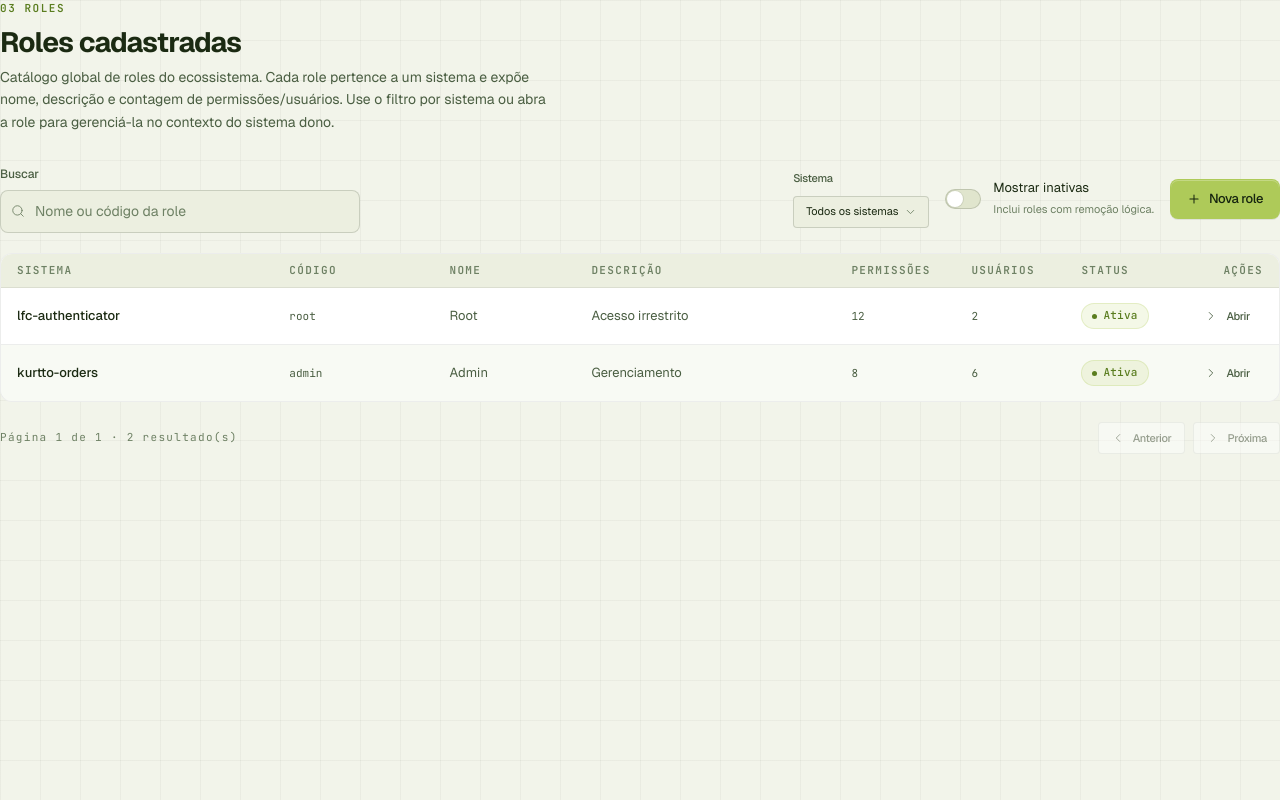
Test: RolesGlobalListShellPage — Issue #193 criar role global › POST /roles usa systemId do sistema selecionado no modal
The image size is (1280, 800).
Step 1. Click the button with test id "roles-global-create-open" → click(1225, 199), box [1170,179,1279,219]
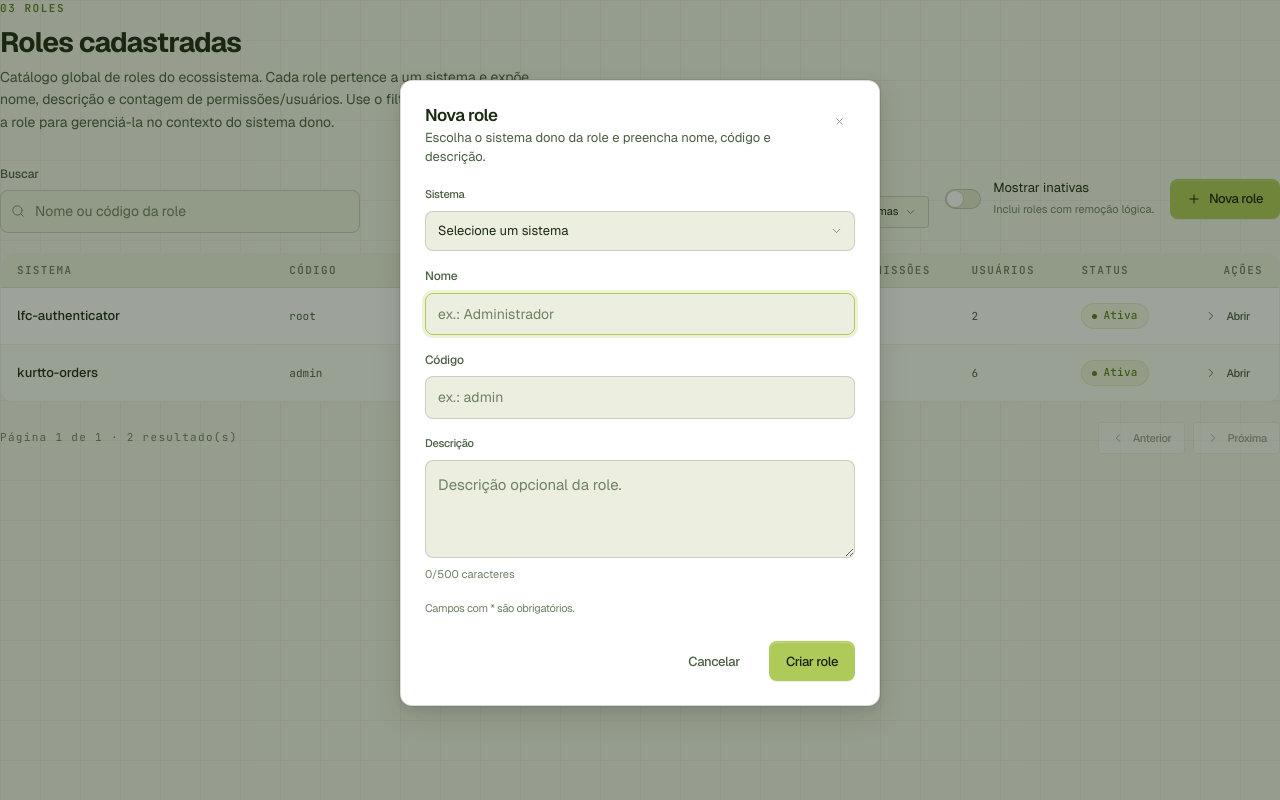
expect the form with test id "new-role-form" is shown: met, box [425,267,855,681]
Step 2. Select "kurtto-orders" in the dropdown with test id "new-role-system" → (640, 231), box [425,211,855,251]
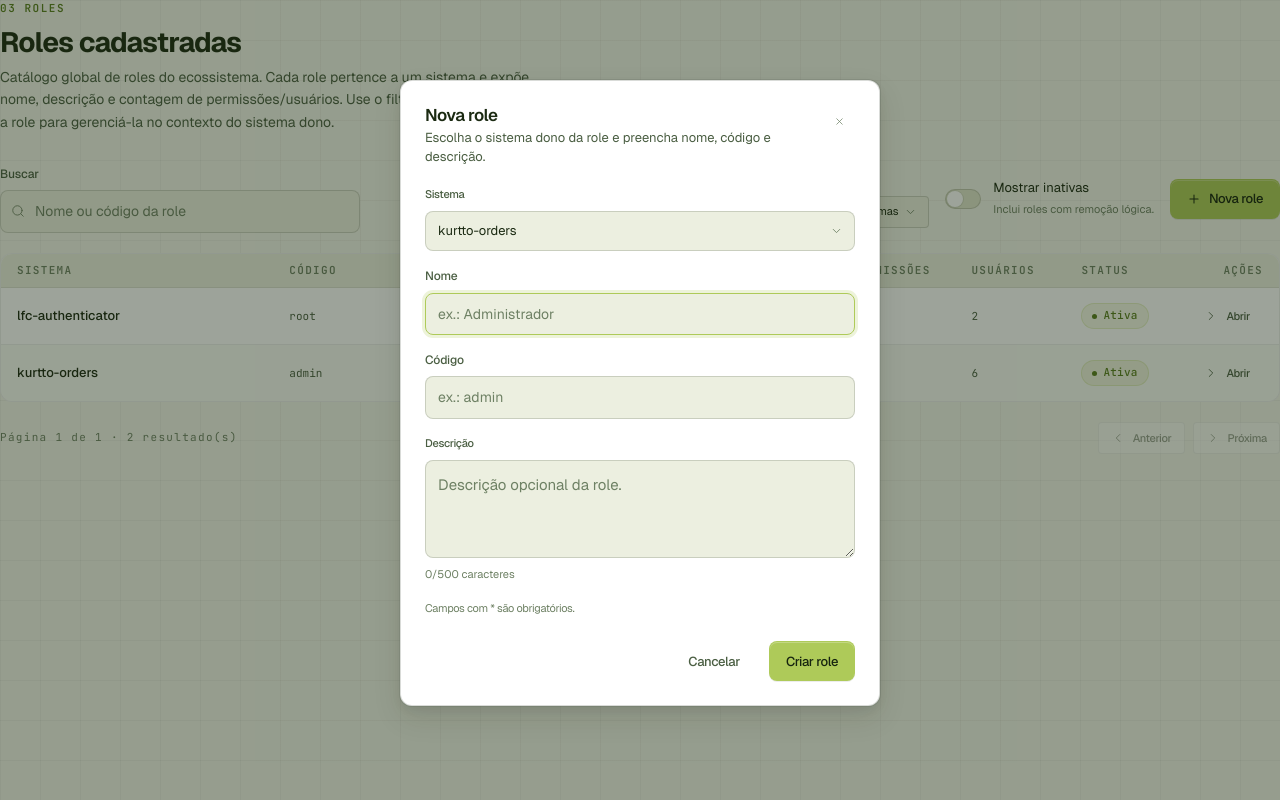
Step 3. Type "Operador Kurtto" into the field with test id "new-role-name" → (640, 314), box [425,292,855,335]
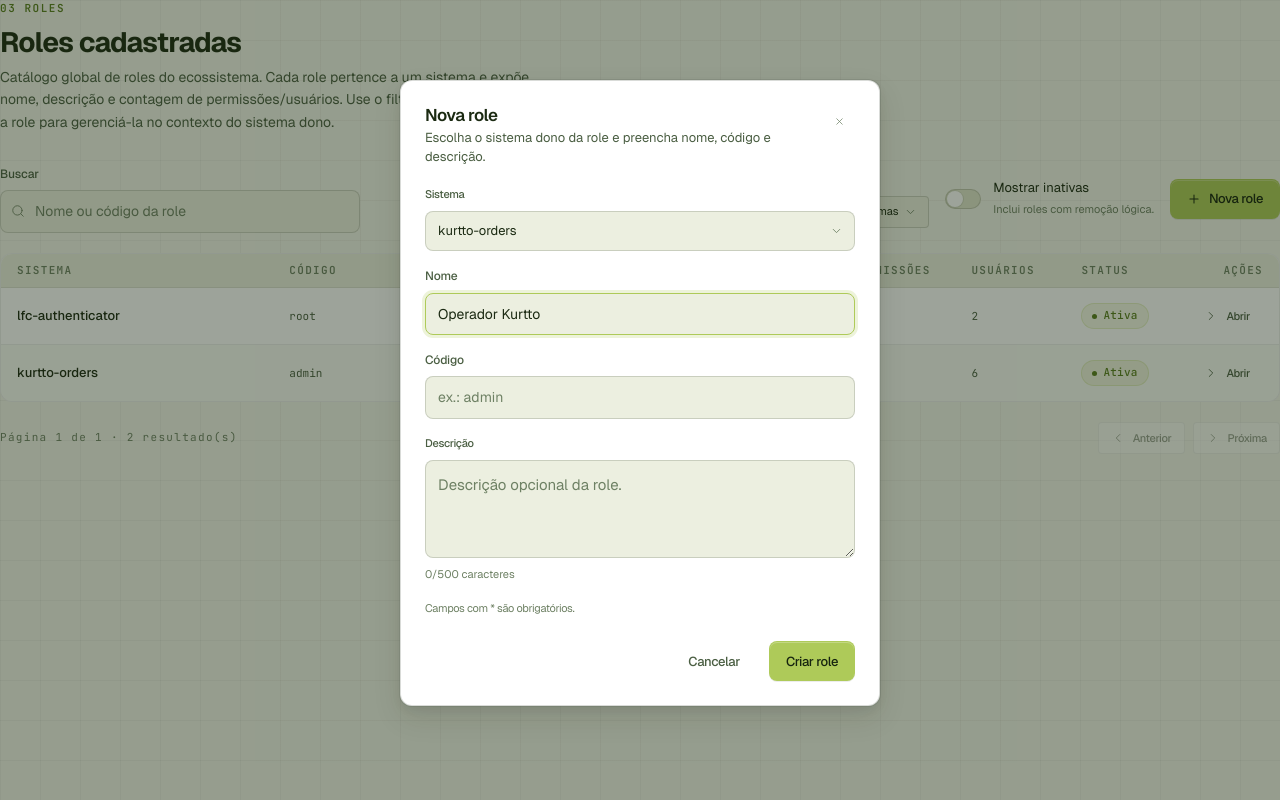
Step 4. Type "kurtto_op" into the field with test id "new-role-code" → (640, 397), box [425,376,855,418]
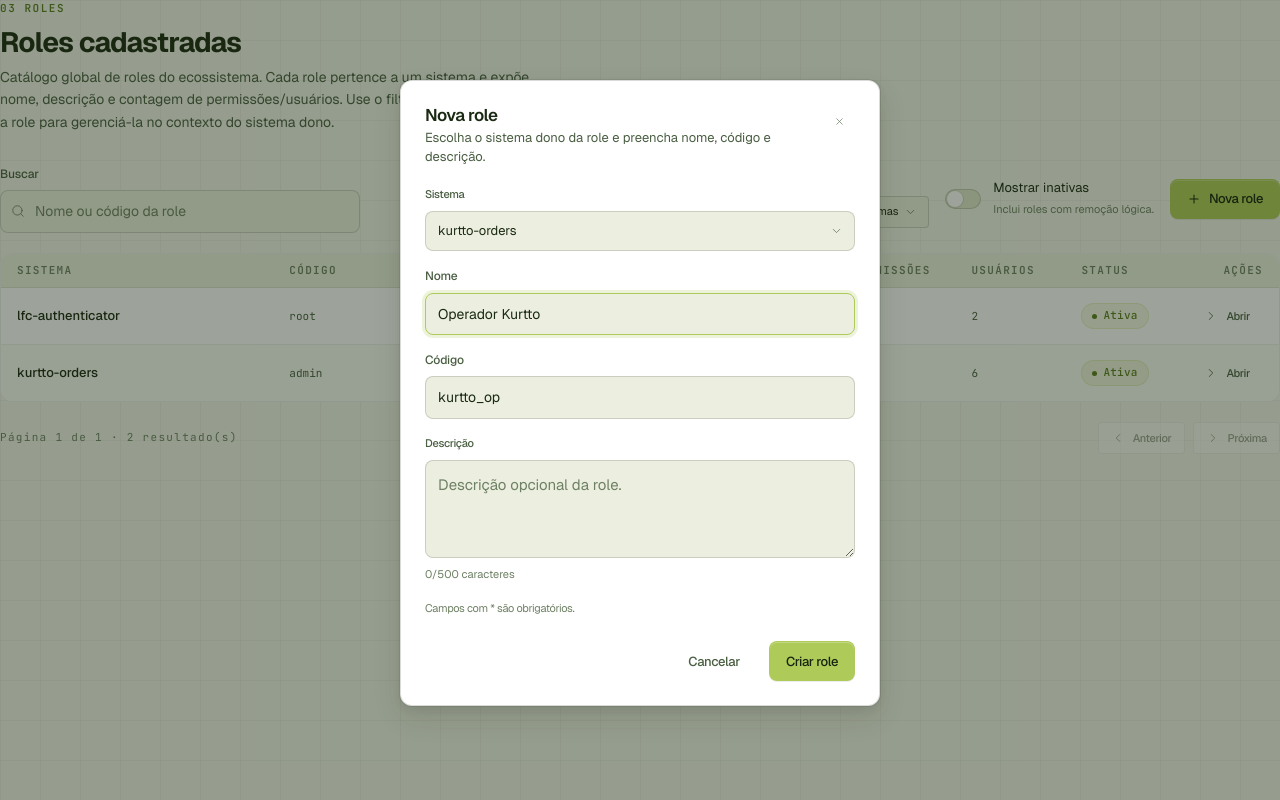
Step 5. Submit the form with test id "new-role-form", box [425,267,855,681]
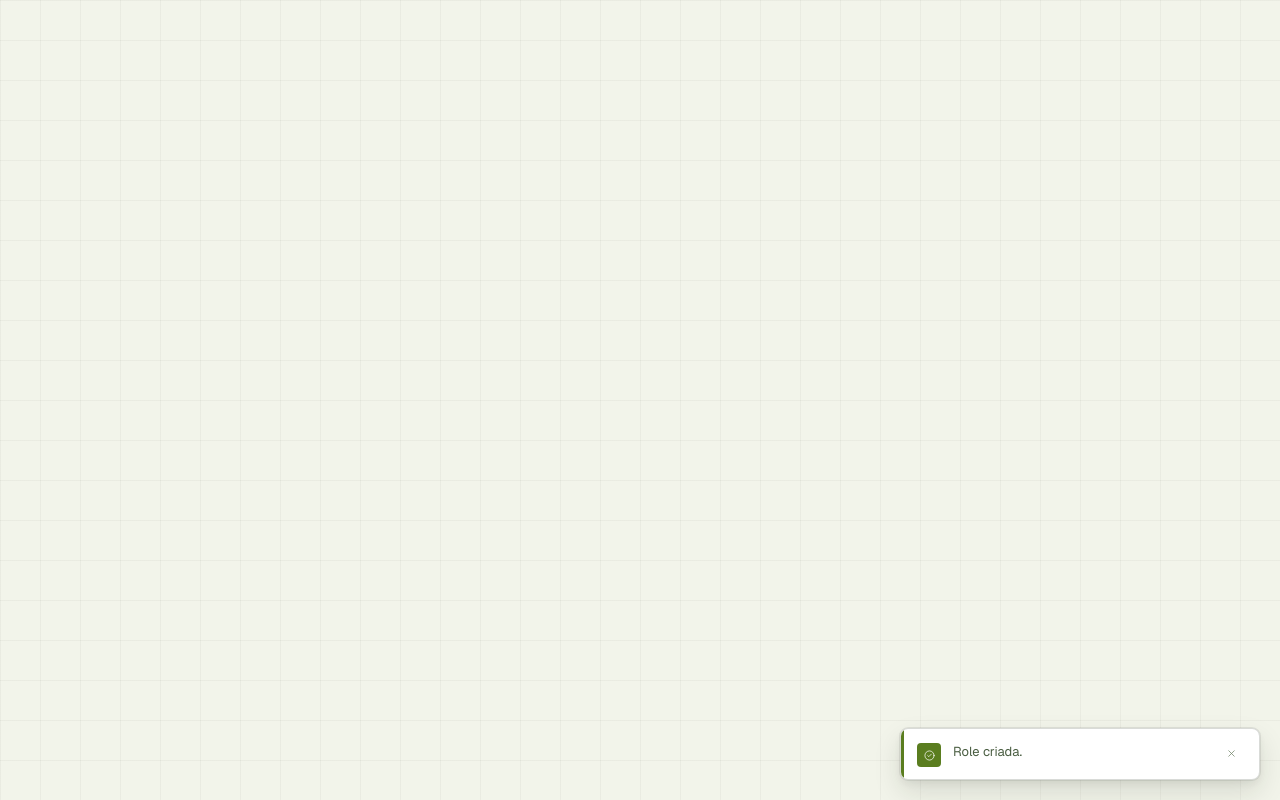
expect the dialog is gone: met
expect the text "Role criada." is shown: met, box [953,743,1022,760]
